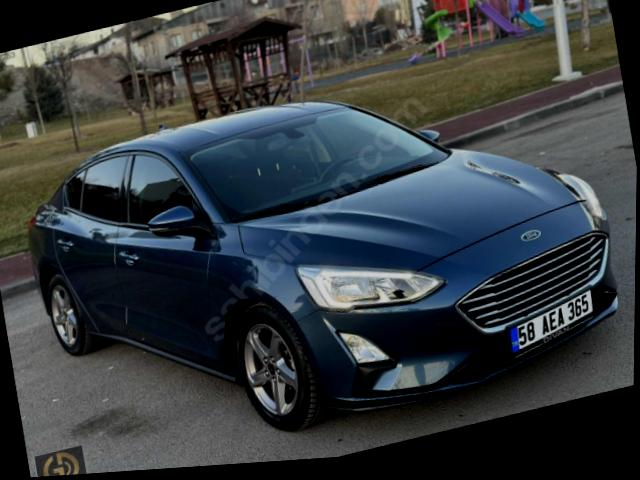plaka: (509, 290, 592, 356)
